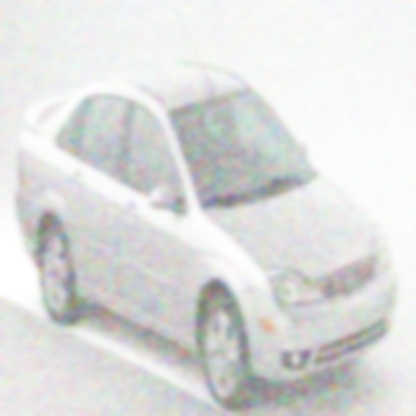Vehicle: (17, 58, 401, 411)
